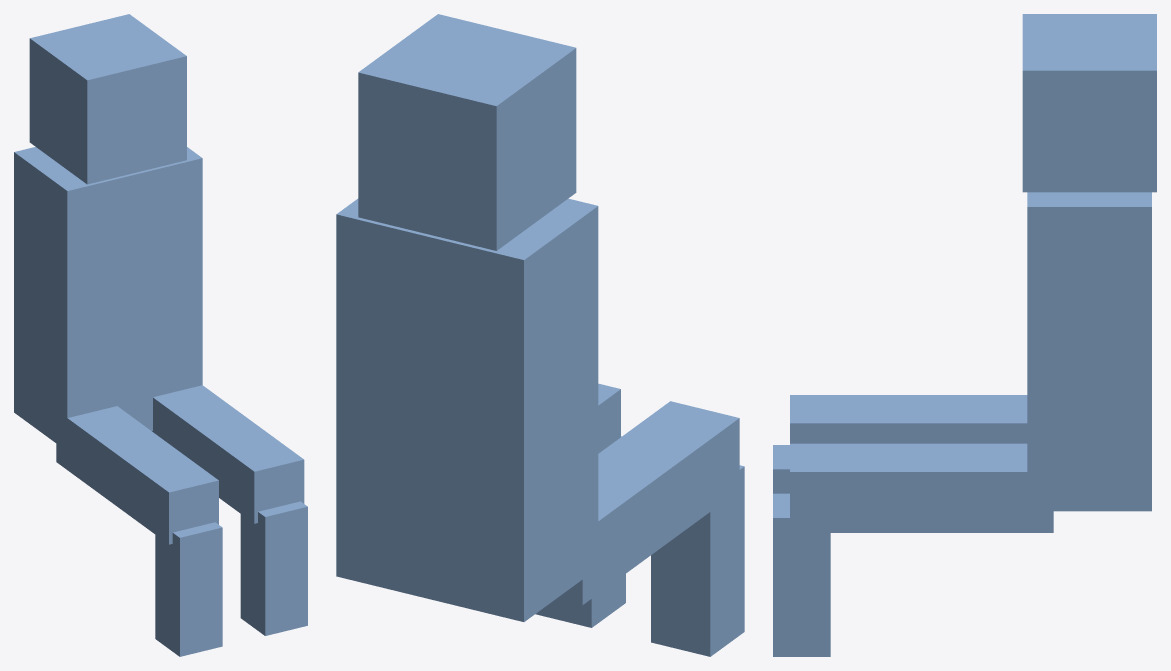
The model's file is Sit.glb.
3 views of the same model, side by side, from view 1: azimuth 30°, elevation 25°; view 2: azimuth 150°, elevation 25°; view 3: azimuth 270°, elevation 25° (orthographic). The views are drawn at different scales.
Visible parts, largest first — view 1: filler_Sit; view 2: filler_Sit; view 3: filler_Sit.
Boxes of the visible parts, x1,y1,x2,y2 form: filler_Sit: (14, 14, 307, 656); filler_Sit: (336, 14, 744, 656); filler_Sit: (773, 14, 1156, 656).
Bounding box in the file's own units: 0.38 × 1.33 × 0.8.
